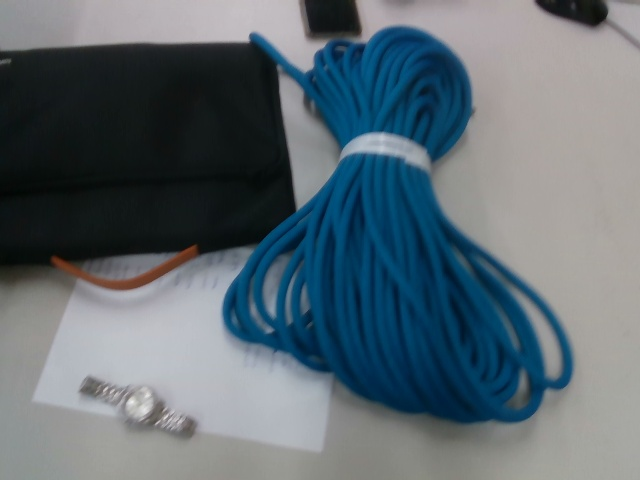rope: (217, 26, 578, 426)
